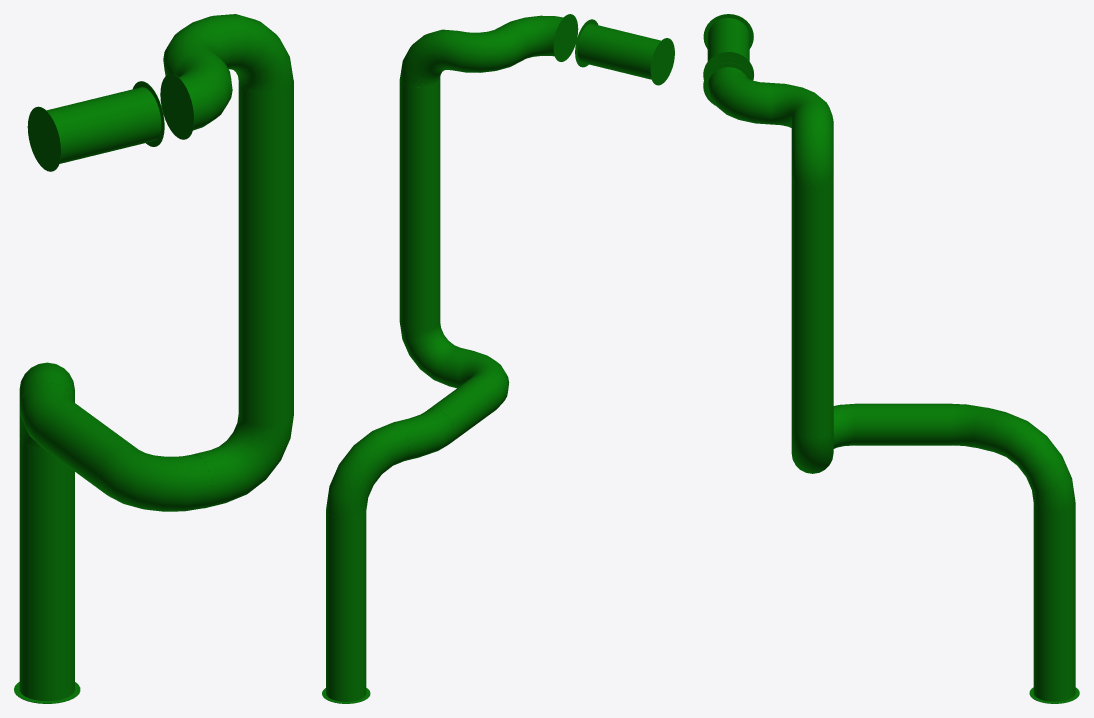
File: Image-1710907700853-2280725754608_77-GA54-EXT-DUCT-HER.fbx
3 views of the same model, side by side, from view 1: azimuth 30°, elevation 25°; view 2: azimuth 150°, elevation 25°; view 3: azimuth 270°, elevation 25° (orthographic). The views are drawn at different scales.
Parts seen in each view (by area): view 1: CYLINDER 2 of EQUIPMENT /77-GA54-EXT-DUCT-HER, CYLINDER 1 of EQUIPMENT /77-GA54-EXT-DUCT-HER, CTORUS 7 of EQUIPMENT /77-GA54-EXT-DUCT-HER, CYLINDER 3 of EQUIPMENT /77-GA54-EXT-DUCT-HER, CYLINDER 7 of EQUIPMENT /77-GA54-EXT-DUCT-HER, CTORUS 4 of EQUIPMENT /77-GA54-EXT-DUCT-HER, CTORUS 6 of EQUIPMENT /77-GA54-EXT-DUCT-HER, CTORUS 3 of EQUIPMENT /77-GA54-EXT-DUCT-HER, CTORUS 5 of EQUIPMENT /77-GA54-EXT-DUCT-HER, CYLINDER 6 of EQUIPMENT /77-GA54-EXT-DUCT-HER, CYLINDER 4 of EQUIPMENT /77-GA54-EXT-DUCT-HER, CTORUS 2 of EQUIPMENT /77-GA54-EXT-DUCT-HER (+3 smaller); view 2: CYLINDER 2 of EQUIPMENT /77-GA54-EXT-DUCT-HER, CYLINDER 1 of EQUIPMENT /77-GA54-EXT-DUCT-HER, CTORUS 1 of EQUIPMENT /77-GA54-EXT-DUCT-HER, CTORUS 5 of EQUIPMENT /77-GA54-EXT-DUCT-HER, CYLINDER 3 of EQUIPMENT /77-GA54-EXT-DUCT-HER, CYLINDER 7 of EQUIPMENT /77-GA54-EXT-DUCT-HER, CTORUS 4 of EQUIPMENT /77-GA54-EXT-DUCT-HER, CTORUS 6 of EQUIPMENT /77-GA54-EXT-DUCT-HER, CTORUS 3 of EQUIPMENT /77-GA54-EXT-DUCT-HER, CTORUS 7 of EQUIPMENT /77-GA54-EXT-DUCT-HER, CTORUS 2 of EQUIPMENT /77-GA54-EXT-DUCT-HER, CYLINDER 6 of EQUIPMENT /77-GA54-EXT-DUCT-HER (+3 smaller); view 3: CYLINDER 2 of EQUIPMENT /77-GA54-EXT-DUCT-HER, CYLINDER 1 of EQUIPMENT /77-GA54-EXT-DUCT-HER, CTORUS 1 of EQUIPMENT /77-GA54-EXT-DUCT-HER, CYLINDER 7 of EQUIPMENT /77-GA54-EXT-DUCT-HER, CTORUS 4 of EQUIPMENT /77-GA54-EXT-DUCT-HER, CTORUS 3 of EQUIPMENT /77-GA54-EXT-DUCT-HER, CTORUS 5 of EQUIPMENT /77-GA54-EXT-DUCT-HER, CTORUS 6 of EQUIPMENT /77-GA54-EXT-DUCT-HER, CYLINDER 3 of EQUIPMENT /77-GA54-EXT-DUCT-HER, CTORUS 2 of EQUIPMENT /77-GA54-EXT-DUCT-HER, CTORUS 7 of EQUIPMENT /77-GA54-EXT-DUCT-HER, CYLINDER 8 of EQUIPMENT /77-GA54-EXT-DUCT-HER (+1 smaller).
Boxes of the visible parts, x1,y1,x2,y2 form: CYLINDER 2 of EQUIPMENT /77-GA54-EXT-DUCT-HER: [238, 80, 293, 426]; CYLINDER 1 of EQUIPMENT /77-GA54-EXT-DUCT-HER: [19, 438, 74, 700]; CTORUS 7 of EQUIPMENT /77-GA54-EXT-DUCT-HER: [99, 447, 212, 511]; CYLINDER 3 of EQUIPMENT /77-GA54-EXT-DUCT-HER: [46, 87, 161, 163]; CYLINDER 7 of EQUIPMENT /77-GA54-EXT-DUCT-HER: [34, 399, 137, 495]; CTORUS 4 of EQUIPMENT /77-GA54-EXT-DUCT-HER: [214, 14, 293, 92]; CTORUS 6 of EQUIPMENT /77-GA54-EXT-DUCT-HER: [212, 415, 293, 502]; CTORUS 3 of EQUIPMENT /77-GA54-EXT-DUCT-HER: [175, 49, 232, 130]; CTORUS 5 of EQUIPMENT /77-GA54-EXT-DUCT-HER: [163, 15, 231, 75]; CYLINDER 6 of EQUIPMENT /77-GA54-EXT-DUCT-HER: [160, 74, 194, 139]; CYLINDER 4 of EQUIPMENT /77-GA54-EXT-DUCT-HER: [27, 106, 61, 171]; CTORUS 2 of EQUIPMENT /77-GA54-EXT-DUCT-HER: [19, 382, 74, 444]; CYLINDER 2 of EQUIPMENT /77-GA54-EXT-DUCT-HER: [399, 78, 440, 330]; CYLINDER 1 of EQUIPMENT /77-GA54-EXT-DUCT-HER: [326, 509, 366, 701]; CTORUS 1 of EQUIPMENT /77-GA54-EXT-DUCT-HER: [326, 422, 408, 517]; CTORUS 5 of EQUIPMENT /77-GA54-EXT-DUCT-HER: [445, 25, 527, 72]; CYLINDER 3 of EQUIPMENT /77-GA54-EXT-DUCT-HER: [577, 23, 660, 79]; CYLINDER 7 of EQUIPMENT /77-GA54-EXT-DUCT-HER: [427, 375, 501, 443]; CTORUS 4 of EQUIPMENT /77-GA54-EXT-DUCT-HER: [400, 29, 457, 87]; CTORUS 6 of EQUIPMENT /77-GA54-EXT-DUCT-HER: [400, 322, 458, 385]; CTORUS 3 of EQUIPMENT /77-GA54-EXT-DUCT-HER: [501, 15, 563, 60]; CTORUS 7 of EQUIPMENT /77-GA54-EXT-DUCT-HER: [459, 351, 509, 406]; CTORUS 2 of EQUIPMENT /77-GA54-EXT-DUCT-HER: [410, 409, 453, 456]; CYLINDER 6 of EQUIPMENT /77-GA54-EXT-DUCT-HER: [553, 14, 578, 61]; CYLINDER 2 of EQUIPMENT /77-GA54-EXT-DUCT-HER: [791, 177, 833, 437]; CYLINDER 1 of EQUIPMENT /77-GA54-EXT-DUCT-HER: [1033, 502, 1075, 701]; CTORUS 1 of EQUIPMENT /77-GA54-EXT-DUCT-HER: [989, 411, 1075, 511]; CYLINDER 7 of EQUIPMENT /77-GA54-EXT-DUCT-HER: [854, 403, 952, 445]; CTORUS 4 of EQUIPMENT /77-GA54-EXT-DUCT-HER: [791, 102, 833, 185]; CTORUS 3 of EQUIPMENT /77-GA54-EXT-DUCT-HER: [707, 67, 770, 124]; CTORUS 5 of EQUIPMENT /77-GA54-EXT-DUCT-HER: [770, 83, 831, 127]; CTORUS 6 of EQUIPMENT /77-GA54-EXT-DUCT-HER: [791, 429, 833, 473]; CYLINDER 3 of EQUIPMENT /77-GA54-EXT-DUCT-HER: [707, 18, 749, 61]; CTORUS 2 of EQUIPMENT /77-GA54-EXT-DUCT-HER: [952, 404, 987, 447]; CTORUS 7 of EQUIPMENT /77-GA54-EXT-DUCT-HER: [833, 404, 854, 448]; CYLINDER 8 of EQUIPMENT /77-GA54-EXT-DUCT-HER: [973, 408, 1004, 451].
Bounding box in the file's own units: 3.14 × 4.49 × 7.88.
